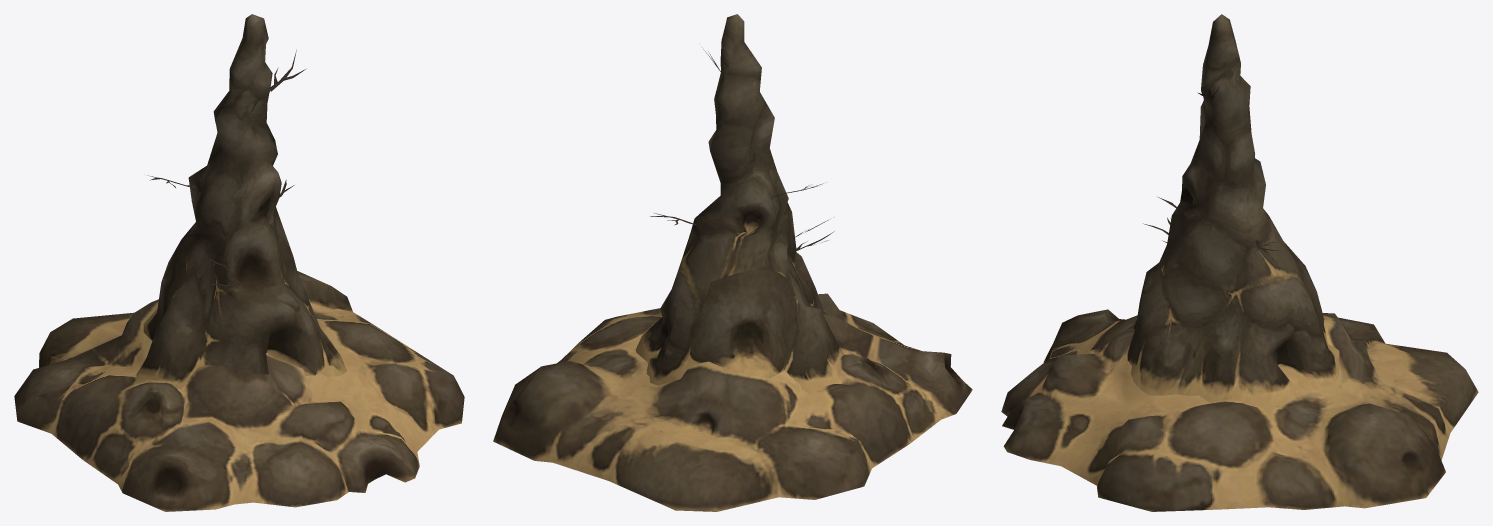
File: nashgar_object_ant_tunnel_04.FBX
3 renders of one model, left to right at view 1: azimuth 30°, elevation 25°; view 2: azimuth 150°, elevation 25°; view 3: azimuth 270°, elevation 25°, orthographic. The views are drawn at different scales.
Visible parts, largest first — view 1: nashgar_object_ant_tunnel_04; view 2: nashgar_object_ant_tunnel_04; view 3: nashgar_object_ant_tunnel_04.
Part boxes in pixels (x1=…): nashgar_object_ant_tunnel_04: x1=14, y1=14, x2=464, y2=511; nashgar_object_ant_tunnel_04: x1=493, y1=14, x2=972, y2=511; nashgar_object_ant_tunnel_04: x1=1001, y1=14, x2=1478, y2=511.
Size of the model in its own units: 6.19 by 6.59 by 6.96.
